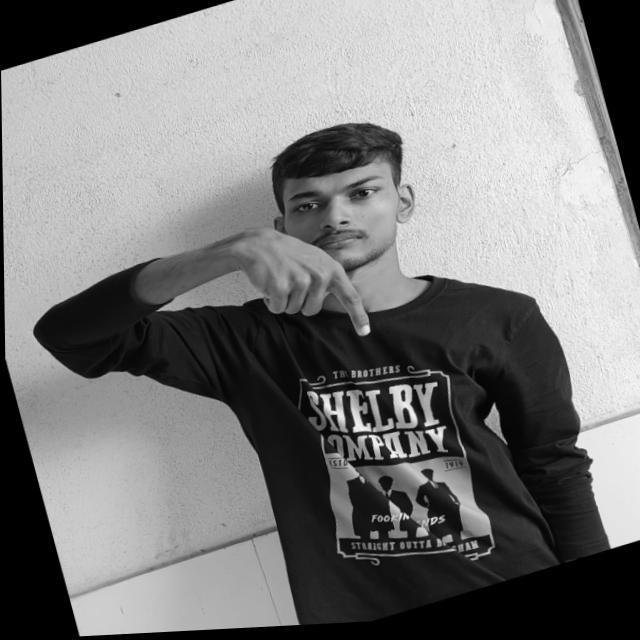Now: (233, 211, 378, 373)
